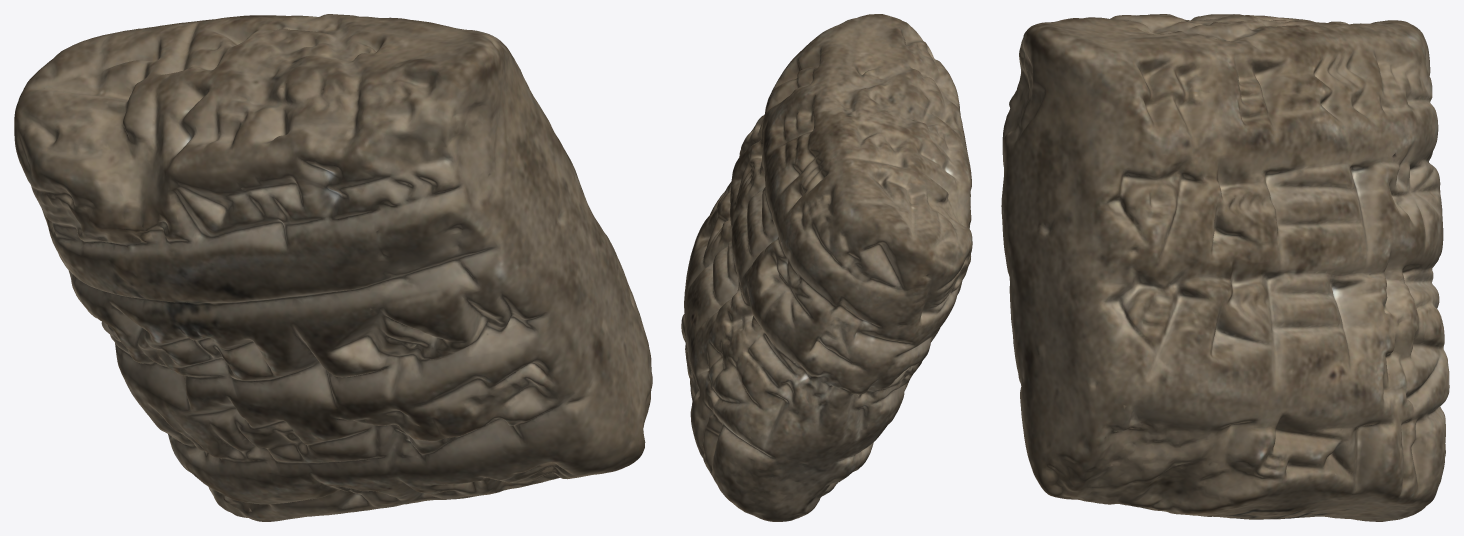
The picture shows the model from 3 angles, left to right: view 1: azimuth 30°, elevation 25°; view 2: azimuth 150°, elevation 25°; view 3: azimuth 270°, elevation 25°; orthographic projection. The views are drawn at different scales.
Parts seen in each view (by area): view 1: Node; view 2: Node; view 3: Node.
Part boxes in pixels (<box>): Node: <box>14,14,652,521</box>; Node: <box>681,14,972,521</box>; Node: <box>1001,14,1449,521</box>.
Size of the model in its own units: 30.03 by 34.2 by 27.3.
1 material, 1 textured.
